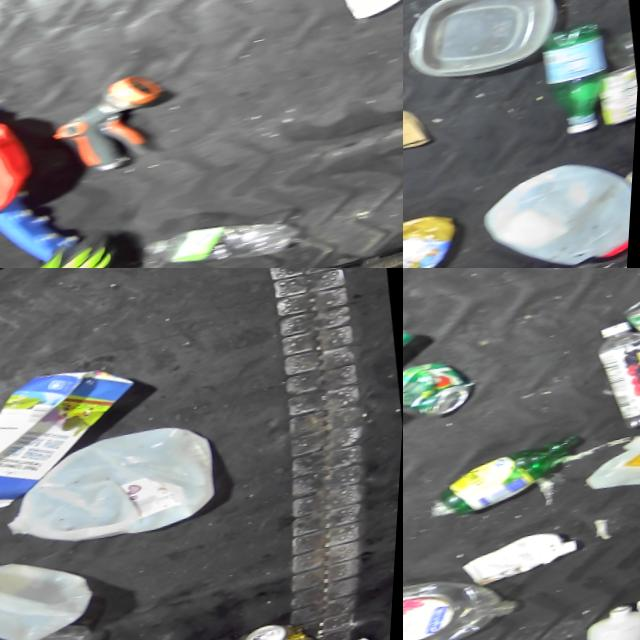can: (403, 358, 476, 433), (235, 624, 325, 640)
milk_jug: (0, 422, 217, 572), (478, 159, 638, 268), (0, 521, 108, 640)
non_white_jug: (0, 115, 21, 233)
plastic_bottle: (532, 27, 625, 157), (146, 208, 321, 268), (403, 567, 528, 640)
